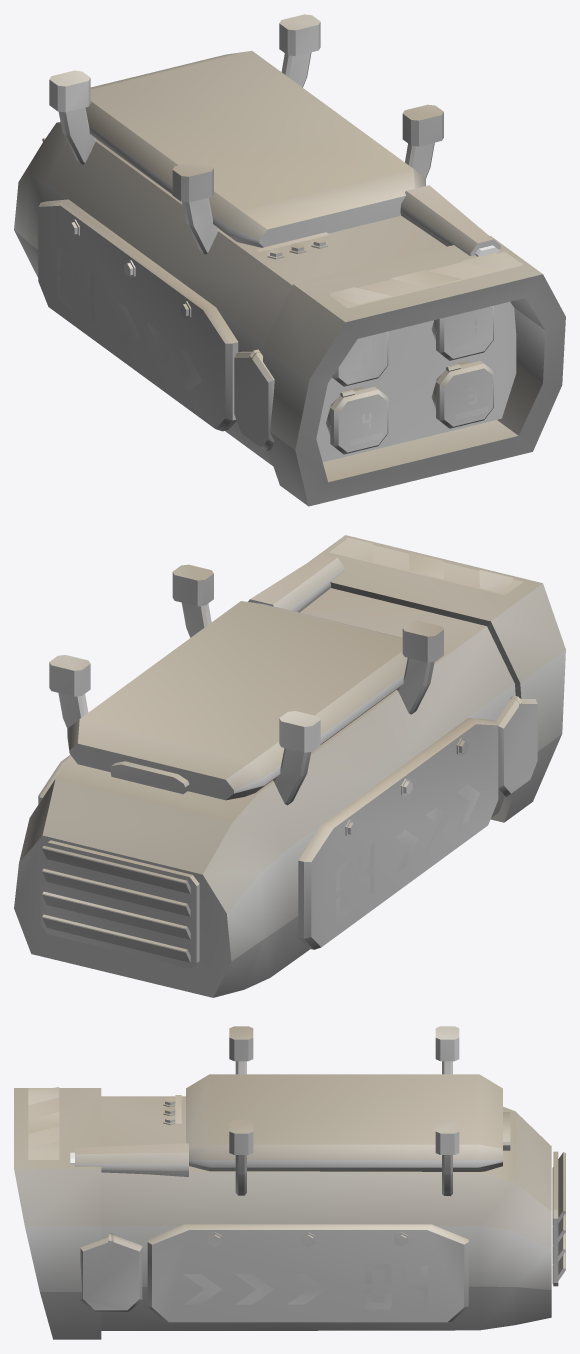
Rendered from missile-pod-l-left.glb.
3 views of the same model, one above another, from view 1: azimuth 30°, elevation 25°; view 2: azimuth 150°, elevation 25°; view 3: azimuth 270°, elevation 25° (orthographic). The views are drawn at different scales.
Parts seen in each view (by area): view 1: Body, Door_3, Door_2, Door_0, Door_1; view 2: Body; view 3: Body.
Boxes of the visible parts, x1=… form: Body: x1=14, y1=14, x2=565, y2=506; Door_3: x1=330, y1=386, x2=388, y2=454; Door_2: x1=436, y1=361, x2=493, y2=428; Door_0: x1=436, y1=305, x2=493, y2=360; Door_1: x1=332, y1=331, x2=388, y2=386; Body: x1=14, y1=535, x2=565, y2=997; Body: x1=14, y1=1026, x2=565, y2=1339.
Size of the model in its own units: 0.3436 by 0.2979 by 0.6961.
